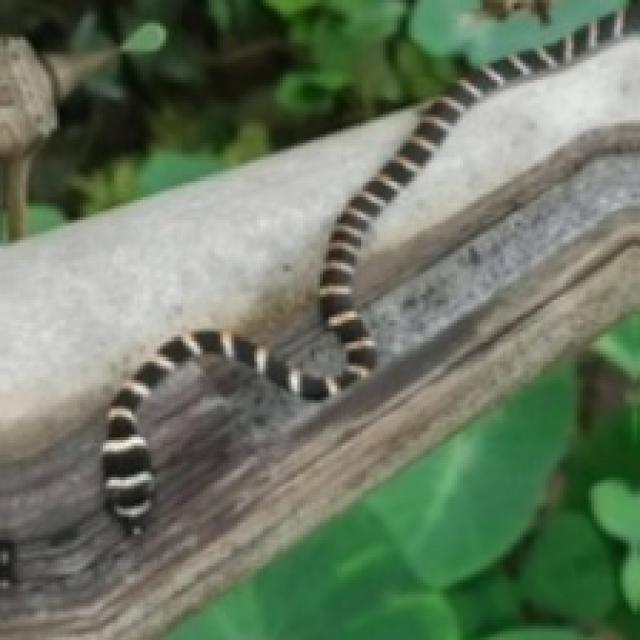paradise tree snake: (101, 10, 624, 533)
